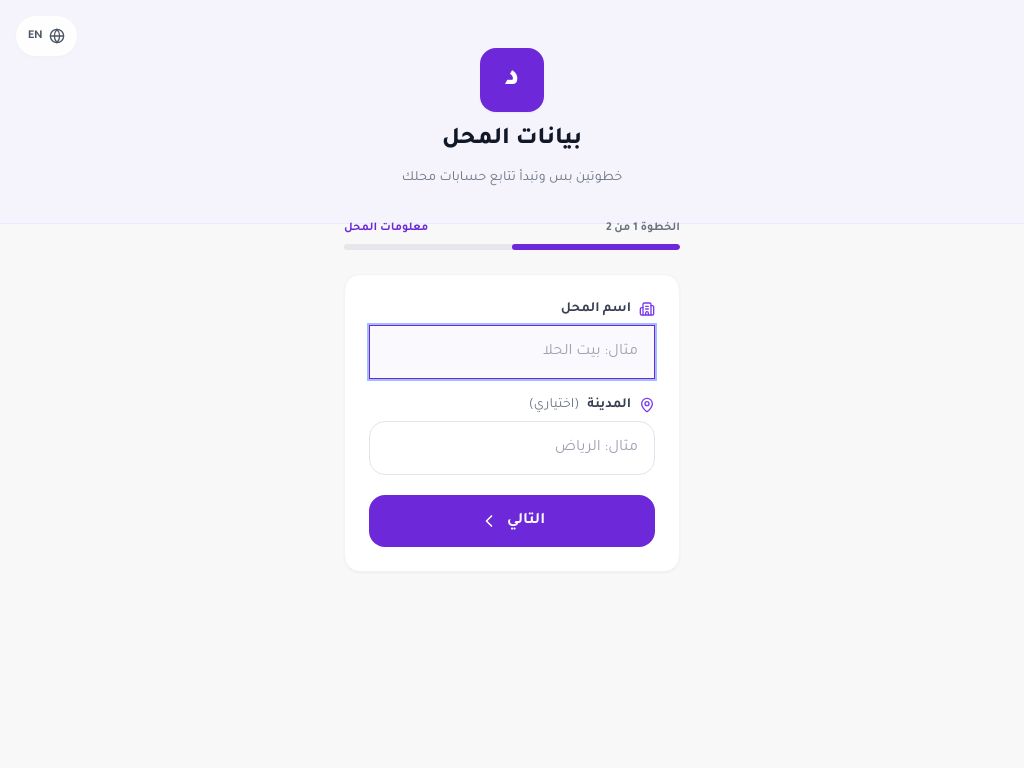
Test: صفحة الإعداد الأولي (Onboarding) › الخطوة الثانية – إعدادات الضريبة › يحفظ الاسم بعد الرجوع والتقدم مجدداً
Step 1. Type "كافيه الورد" into the field labelled "اسم المحل" → (512, 352), box [369,325,655,379]
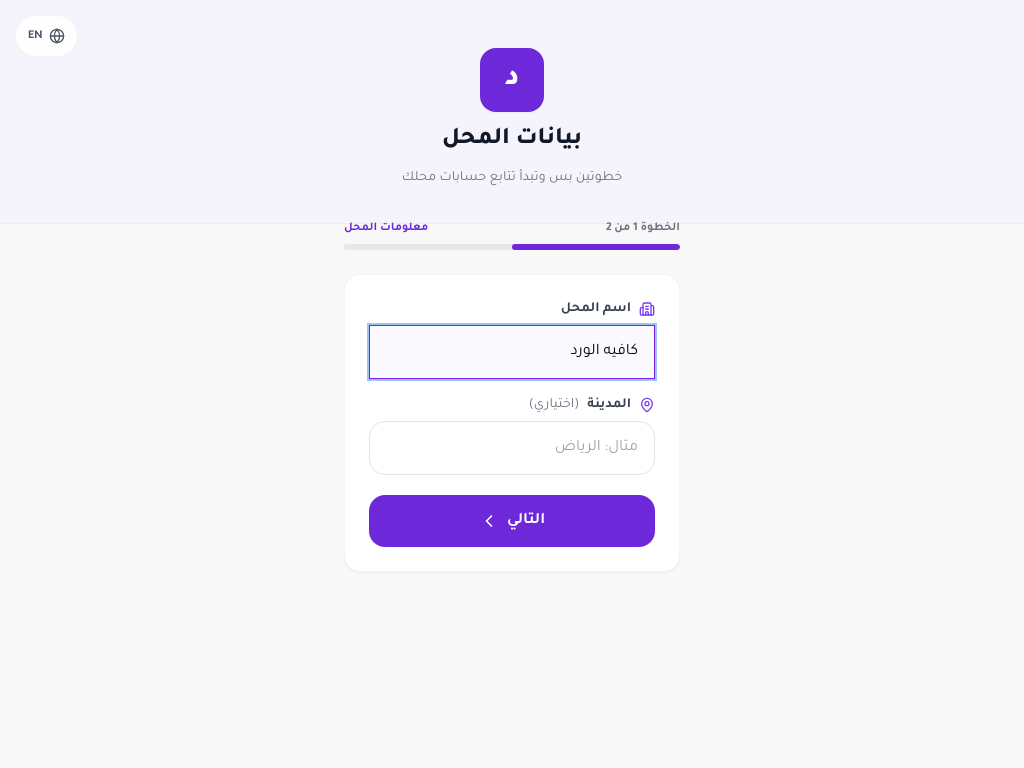
Step 2. Click the button "التالي" → (512, 521), box [369,495,655,547]
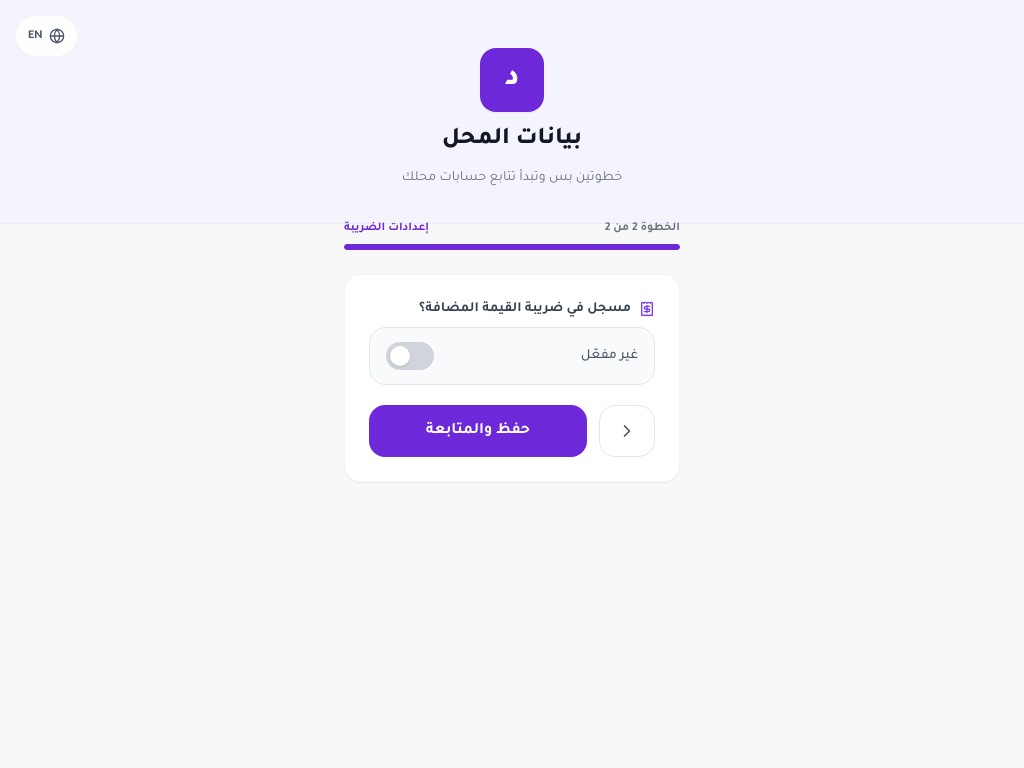
Result: the text "إعدادات الضريبة" is shown at [344,220,429,236]
Step 3. Click the button named "رجوع" → (627, 431), box [599,405,655,457]
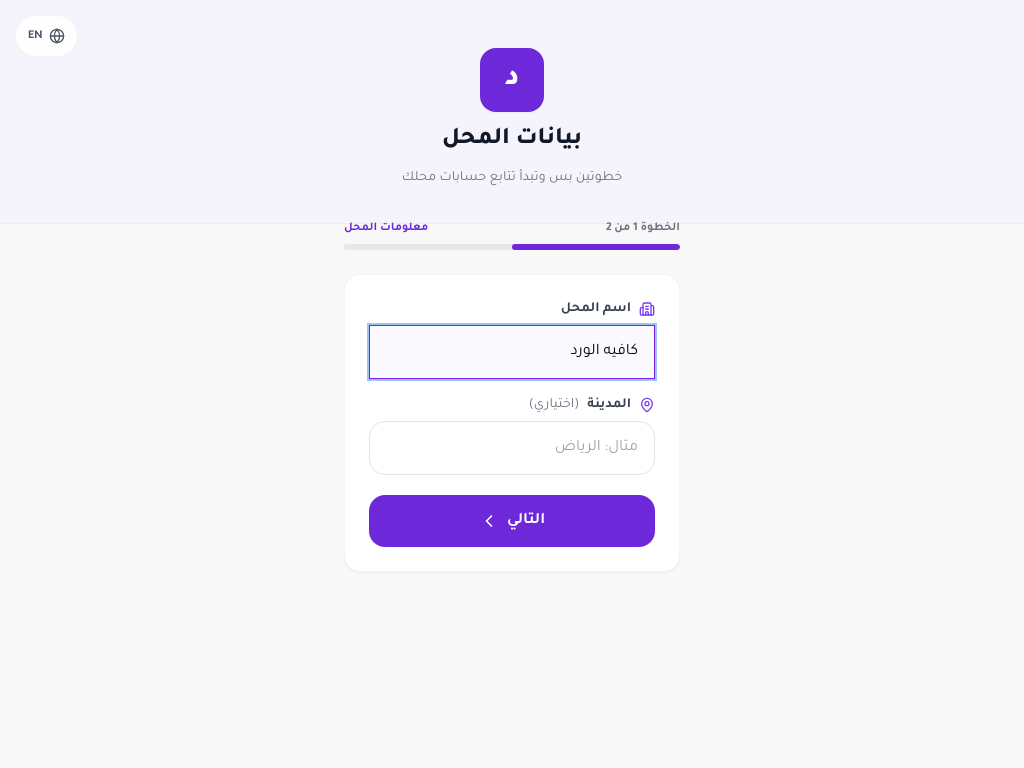
Result: the field labelled "اسم المحل" holds "كافيه الورد" at [369,325,655,379]
